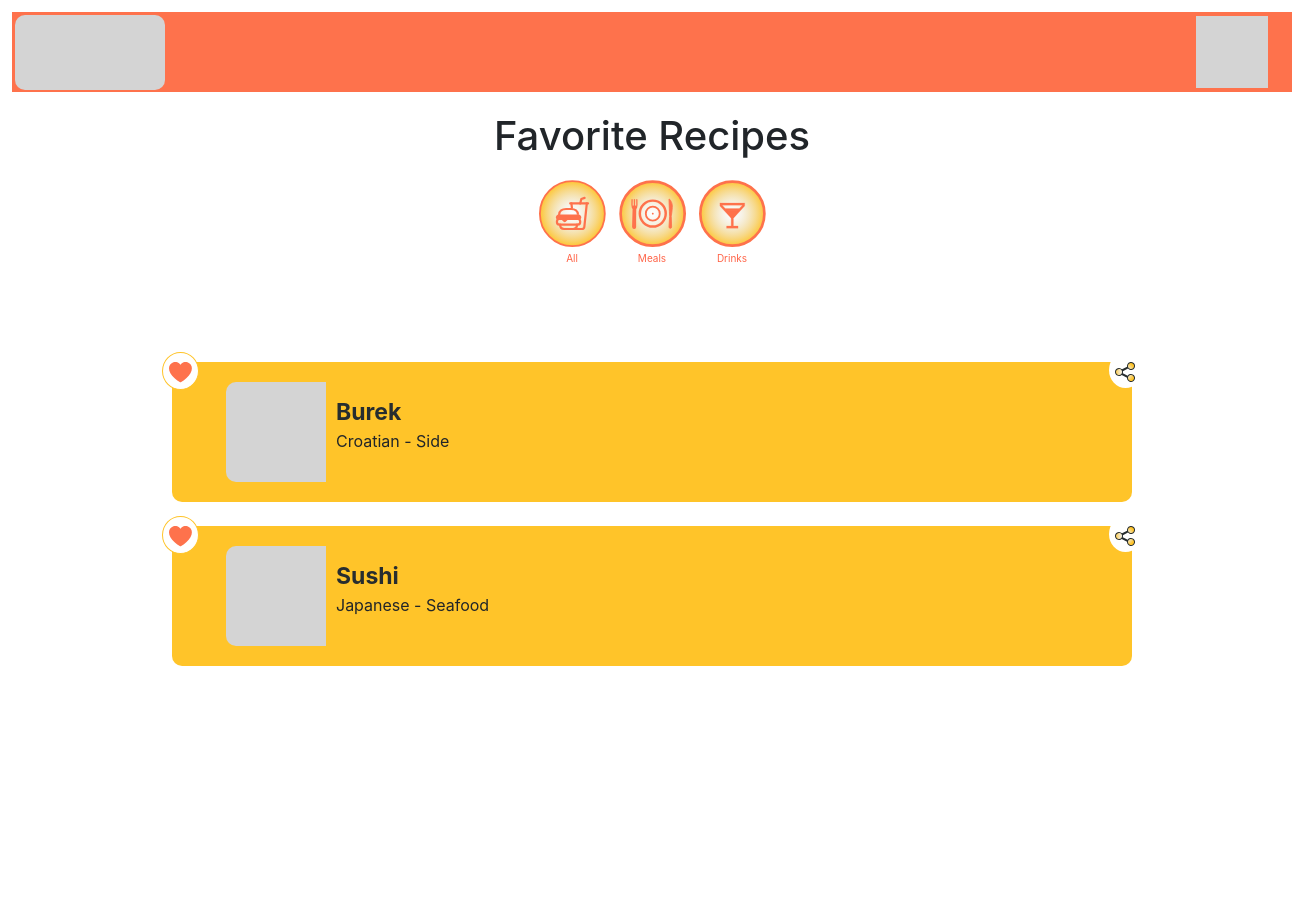
Test: Testes para o componente FavoriteRecipes › Verifica se é desfavoritado
The width and height of the screenshot is (1292, 912).
What coordinates should you click on to do the following:
click the button with test id "1-horizontal-favorite-btn"
I would click on:
 (180, 535)
Its box is x1=162 y1=516 x2=199 y2=554.
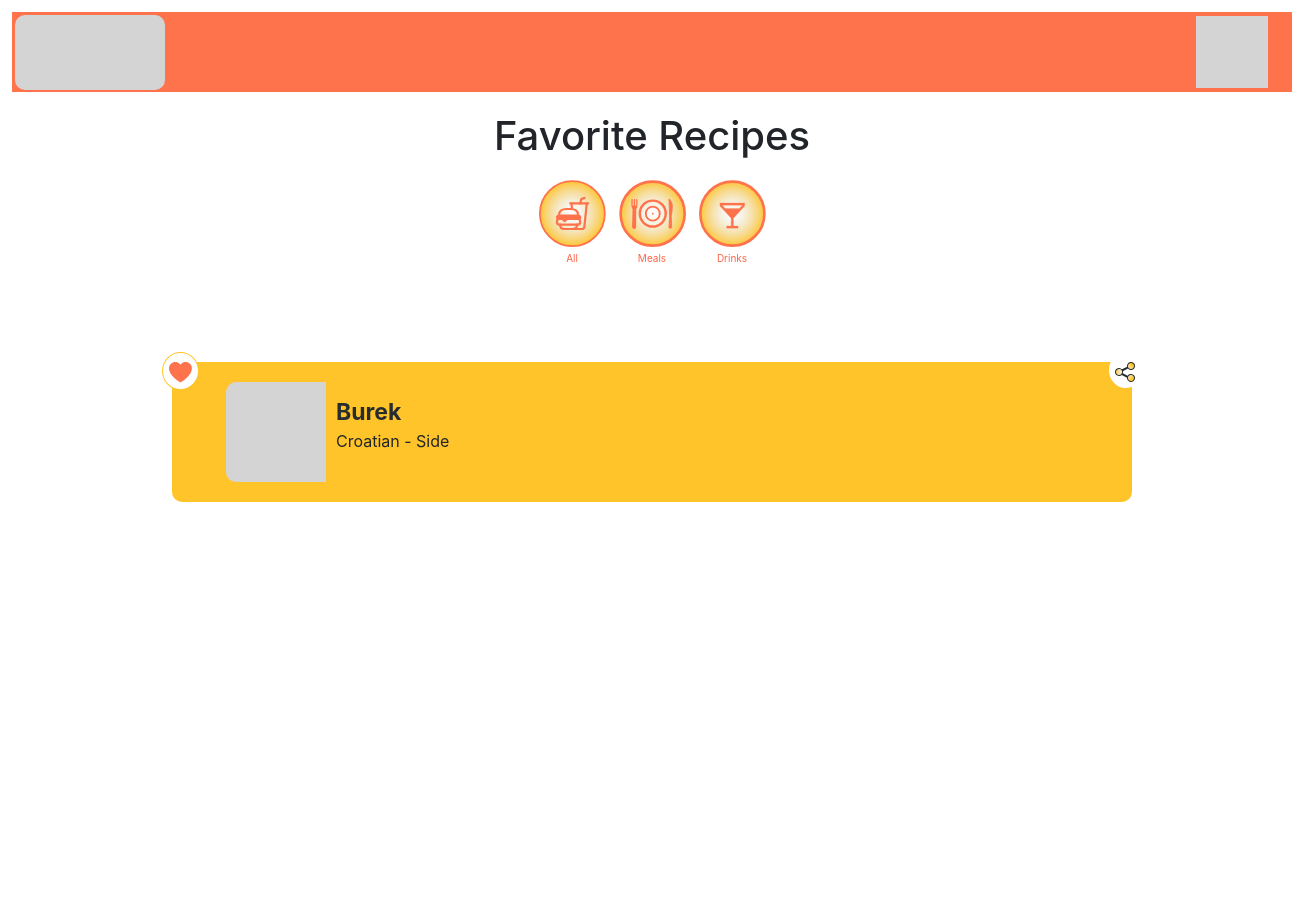
expect the picture with test id "1-horizontal-image" is gone: met
